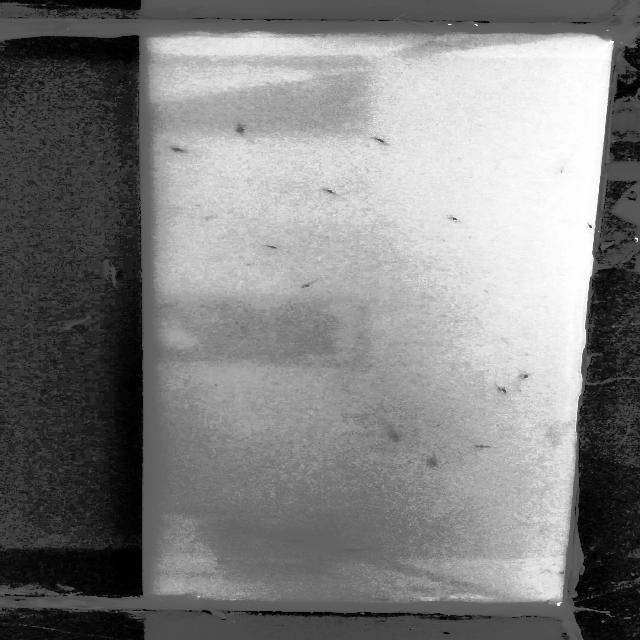shrimp: (316, 184, 343, 200), (581, 216, 604, 233), (296, 279, 333, 289), (365, 135, 395, 147), (230, 122, 252, 138), (491, 388, 521, 398), (390, 433, 424, 441), (420, 458, 448, 467), (167, 146, 197, 154), (472, 443, 498, 451), (339, 546, 364, 554), (444, 214, 466, 223), (514, 371, 532, 381), (284, 538, 312, 544), (371, 597, 394, 604), (262, 244, 284, 251)
